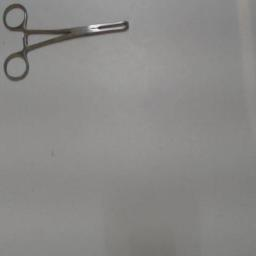Allis Tissue Forceps: (0, 0, 136, 86)
